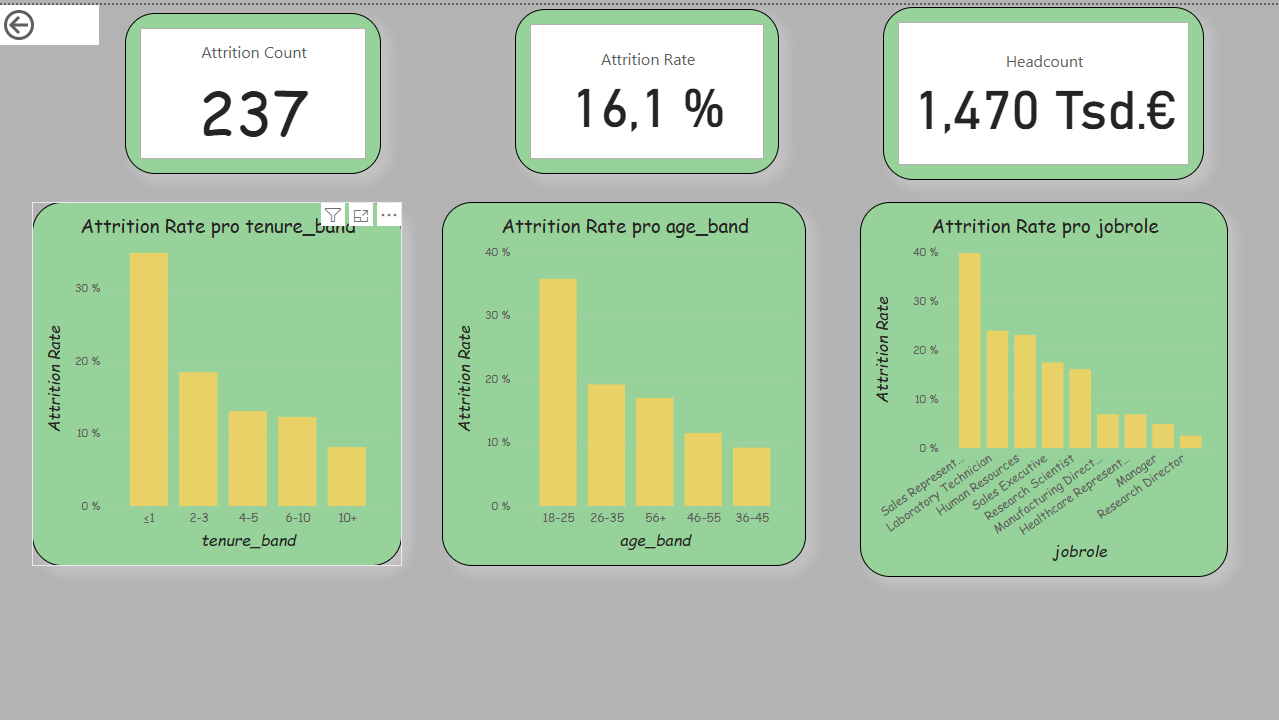

Layout of this report page (visuals, bound fields, positions):
{"tool":"powerbi","page":{"name":"Seite 3","canvas":[1280,720],"ordinal":2},"visuals":[{"type":"actionButton","box":[0,0,100,40],"z":0},{"type":"cardVisual","fields":{"Data":["Meansures.Attrition Count"]},"box":[126,8,256,161],"z":1000},{"type":"cardVisual","fields":{"Data":["Meansures.Headcount"]},"box":[884,2,321,173],"z":2000},{"type":"cardVisual","fields":{"Data":["Meansures.Attrition Rate"]},"box":[516,4,264,165],"z":3000},{"type":"clusteredColumnChart","title":"Attrition Rate pro jobrole","fields":{"Y":["Meansures.Attrition Rate"],"Category":["Dim_JobRole.jobrole"]},"box":[861,197,368,375],"z":4000},{"type":"clusteredColumnChart","title":"Attrition Rate pro age_band","fields":{"Y":["Meansures.Attrition Rate"],"Category":["Dim_AgeBand.age_band"]},"box":[443,197,364,364],"z":5000},{"type":"clusteredColumnChart","title":"Attrition Rate pro tenure_band","fields":{"Y":["Meansures.Attrition Rate"],"Category":["Dim_TenureBand.tenure_band"]},"box":[33,197,370,364],"z":6000}]}

Visuals, with their boxes on the page's 1280x720 design canvas (x1, y1, x2, y2). These are canvas units, not pixel positions in the 1279x720 screenshot, which may show the page scaled, cropped or inside an application window:
actionButton: select_region(0, 0, 100, 40)
cardVisual - Meansures.Attrition Count: select_region(126, 8, 382, 169)
cardVisual - Meansures.Headcount: select_region(884, 2, 1205, 175)
cardVisual - Meansures.Attrition Rate: select_region(516, 4, 780, 169)
"Attrition Rate pro jobrole" clusteredColumnChart: select_region(861, 197, 1229, 572)
"Attrition Rate pro age_band" clusteredColumnChart: select_region(443, 197, 807, 561)
"Attrition Rate pro tenure_band" clusteredColumnChart: select_region(33, 197, 403, 561)
